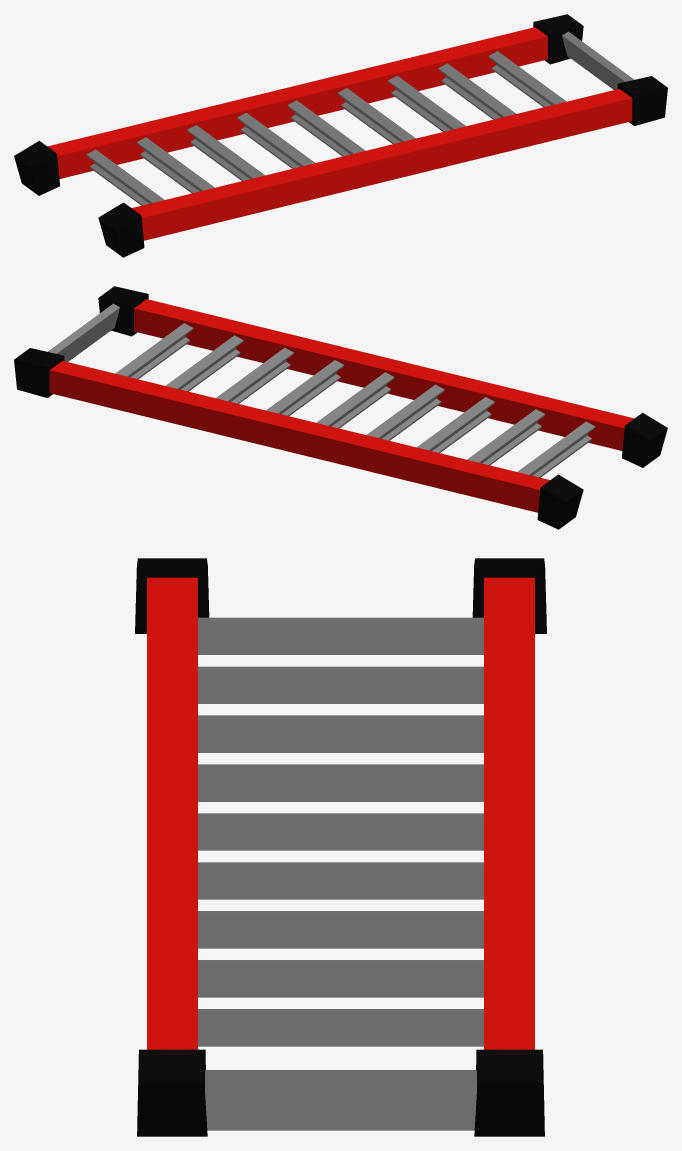
File: Ladder.fbx
3 views of the same model, one above another, from view 1: azimuth 30°, elevation 25°; view 2: azimuth 150°, elevation 25°; view 3: azimuth 270°, elevation 25° (orthographic). The views are drawn at different scales.
Parts seen in each view (by area): view 1: Cube; view 2: Cube; view 3: Cube.
Part boxes in pixels (left/top/right/bottom): Cube: left=14, top=14, right=667, bottom=257; Cube: left=14, top=286, right=667, bottom=529; Cube: left=135, top=558, right=546, bottom=1136.
Bounding box in the file's own units: 1595 × 105 × 515.
